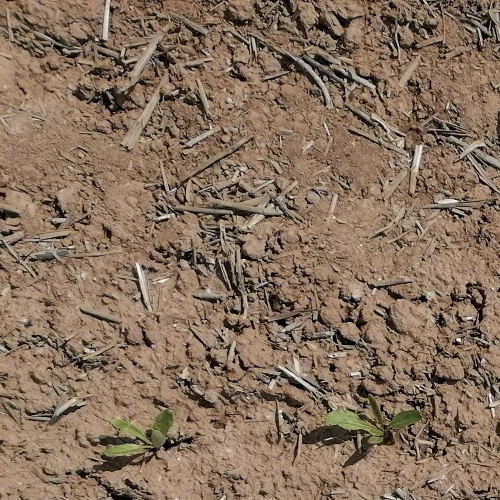beet: (325, 394, 421, 446), (104, 408, 177, 457)
